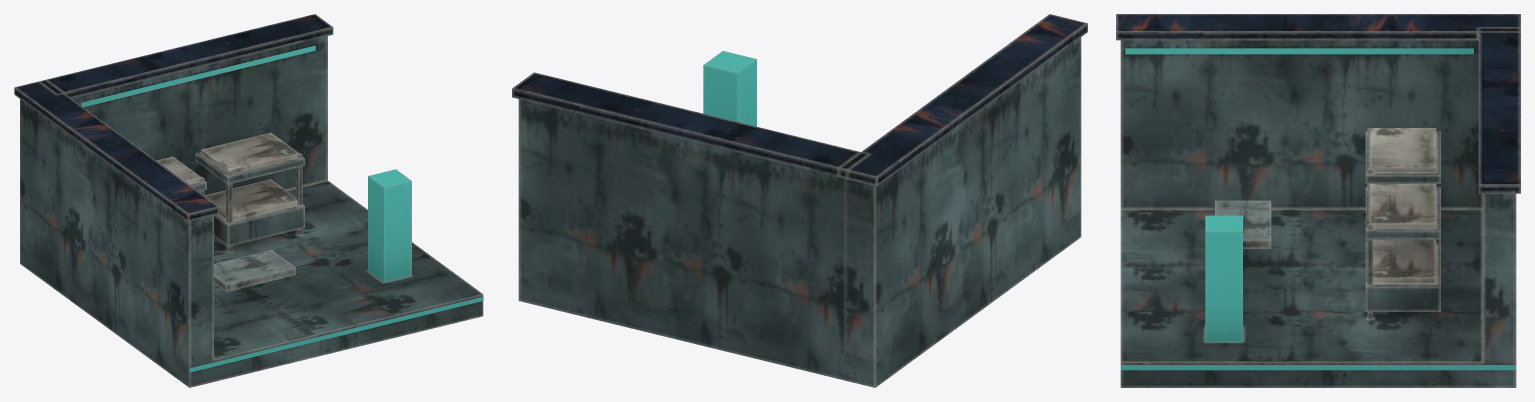
Rendered from habitat_t3.glb.
3 renders of one model, left to right at view 1: azimuth 30°, elevation 25°; view 2: azimuth 150°, elevation 25°; view 3: azimuth 270°, elevation 25°, orthographic. The views are drawn at different scales.
Visible parts, largest first — view 1: te_habitat_t3; view 2: te_habitat_t3; view 3: te_habitat_t3.
Boxes of the visible parts, x1,y1,x2,y2 form: te_habitat_t3: (14,14,483,387); te_habitat_t3: (512,14,1087,387); te_habitat_t3: (1116,14,1520,387).
Bounding box in the file's own units: 0.86 × 0.48 × 0.86.
Materials: 1 (1 with a texture image).
